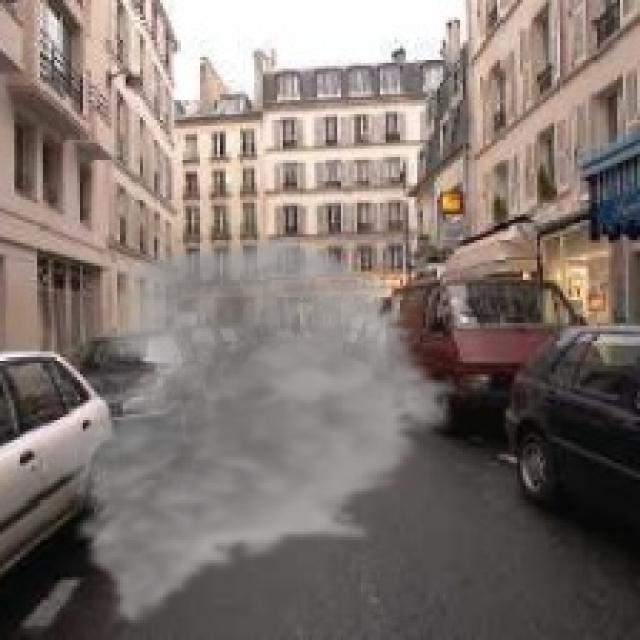smoke: (46, 232, 466, 628)
